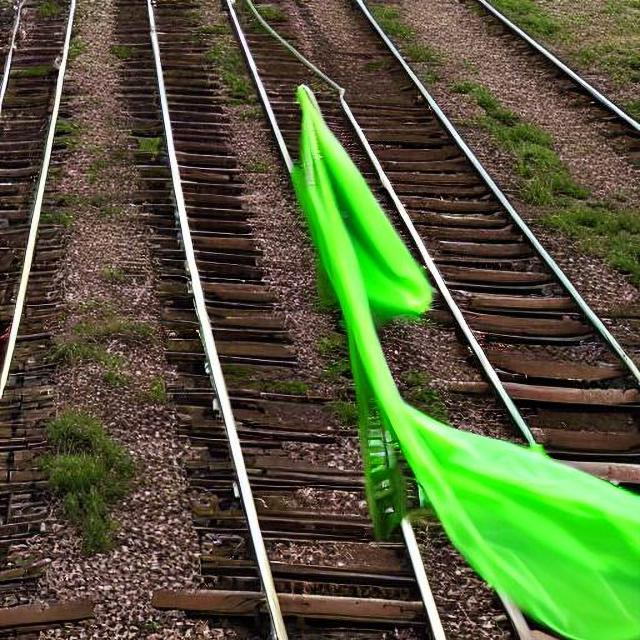plastic bag: (262, 64, 640, 639)
